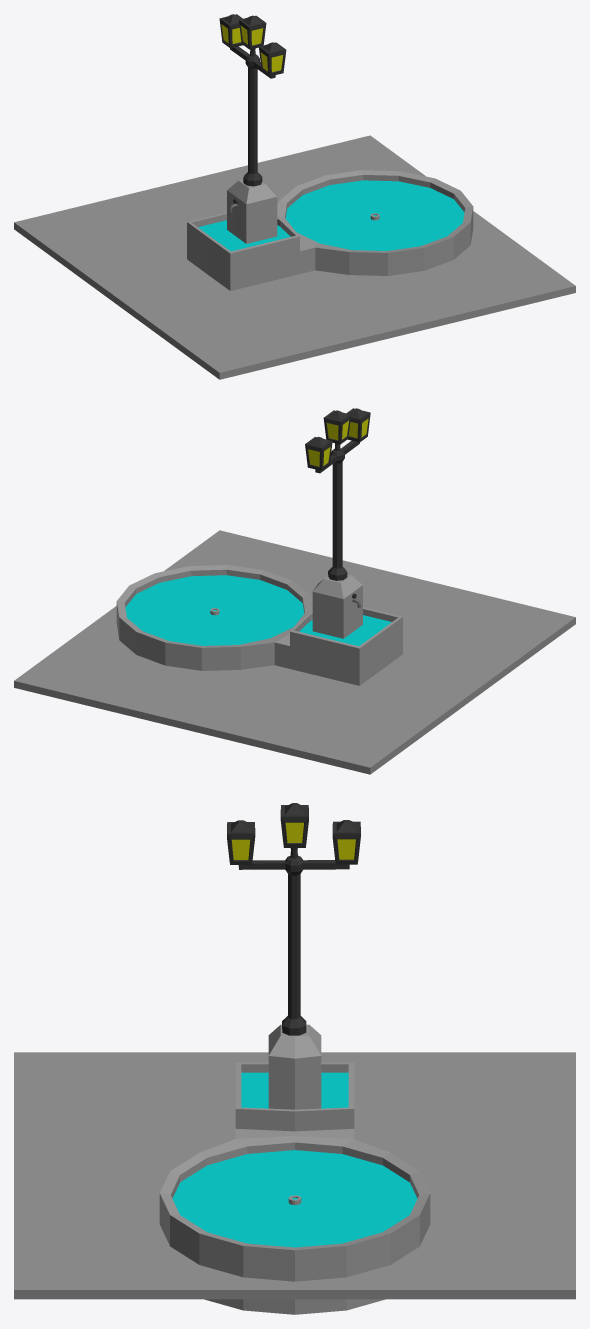
The model's file is plaza.fbx.
3 views of the same model, one above another, from view 1: azimuth 30°, elevation 25°; view 2: azimuth 150°, elevation 25°; view 3: azimuth 270°, elevation 25° (orthographic). The views are drawn at different scales.
Parts seen in each view (by area): view 1: Cube, Cylinder, Cylinder.005, Cylinder.004, Plane, Cube.004, Cube.003; view 2: Cube, Cylinder, Cylinder.005, Cylinder.004, Plane, Cube.002, Cube.003; view 3: Cube, Cylinder, Cylinder.005, Cylinder.004, Plane, Cube.002, Cube.004, Cube.003.
Part boxes in pixels (left/top/right/bottom): Cube: left=14, top=135, right=575, bottom=379; Cylinder: left=187, top=170, right=473, bottom=290; Cylinder.005: left=285, top=180, right=464, bottom=250; Cylinder.004: left=230, top=46, right=275, bottom=186; Plane: left=198, top=220, right=290, bottom=251; Cube.004: left=259, top=42, right=286, bottom=76; Cube.003: left=239, top=15, right=266, bottom=49; Cube: left=14, top=530, right=575, bottom=774; Cylinder: left=116, top=565, right=402, bottom=685; Cylinder.005: left=125, top=575, right=304, bottom=645; Cylinder.004: left=315, top=440, right=359, bottom=580; Plane: left=299, top=615, right=391, bottom=646; Cube.002: left=305, top=436, right=332, bottom=470; Cube.003: left=323, top=410, right=351, bottom=444; Cube: left=14, top=1052, right=575, bottom=1299; Cylinder: left=159, top=1024, right=430, bottom=1314; Cylinder.005: left=172, top=1150, right=417, bottom=1247; Cylinder.004: left=238, top=848, right=349, bottom=1035; Plane: left=241, top=1072, right=348, bottom=1108; Cube.002: left=332, top=820, right=360, bottom=864; Cube.004: left=227, top=820, right=255, bottom=864; Cube.003: left=280, top=803, right=308, bottom=847.
Size of the model in its own units: 200 by 150 by 200.
